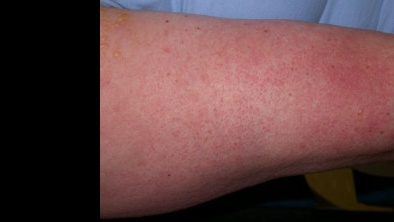SJS-TEN: (98, 4, 157, 99)
